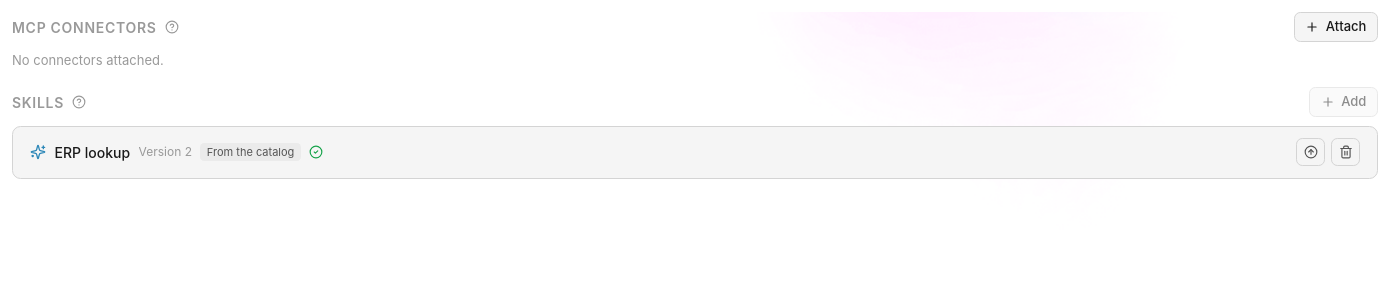
the Skills section — a catalog skill’s actions › names a catalog row by its catalog title, with the folder name in its tooltip, everywhere on the row
Expected: the button named "Update ERP lookup to Version 4 (2.0)" is shown, 1296,138 -> 1325,166
Click the button named "Remove ERP lookup from this agent": (1346,152) 1331,138 -> 1360,166
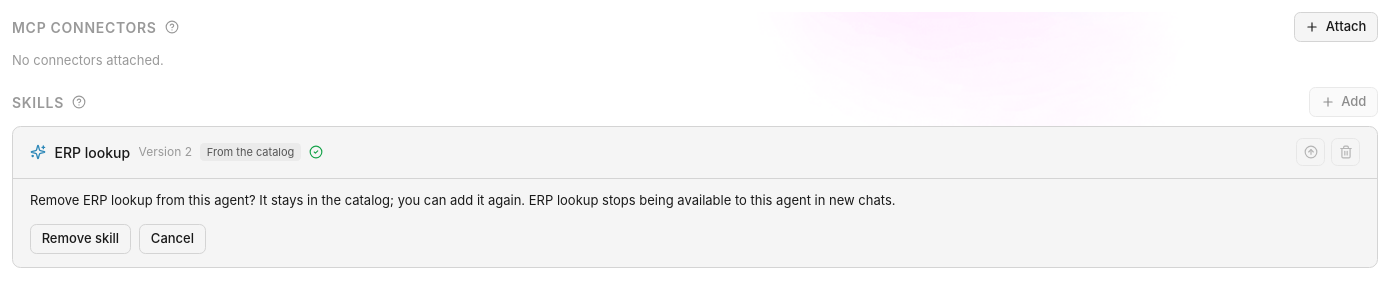
Expected: the text "ERP lookup stops being available to this agent in new chats." is shown, 30,192 -> 896,208
